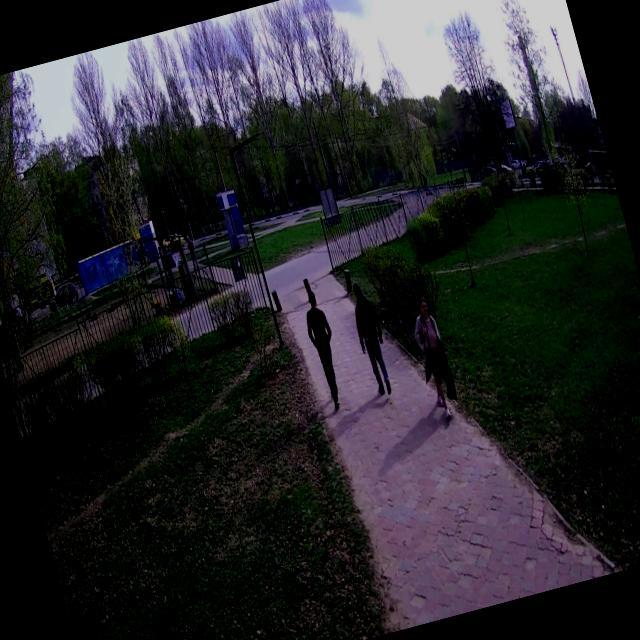person: (404, 292, 461, 423), (296, 286, 352, 414), (344, 278, 398, 399)
